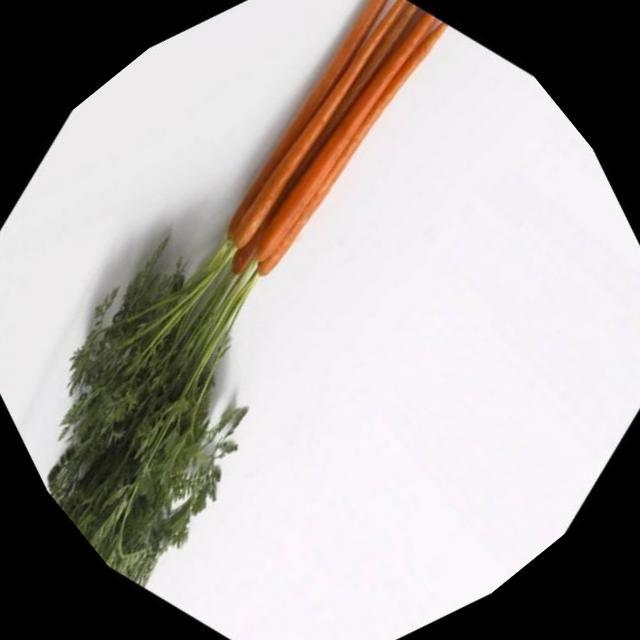carrot: (70, 0, 560, 375), (102, 0, 520, 327), (154, 0, 540, 327)
